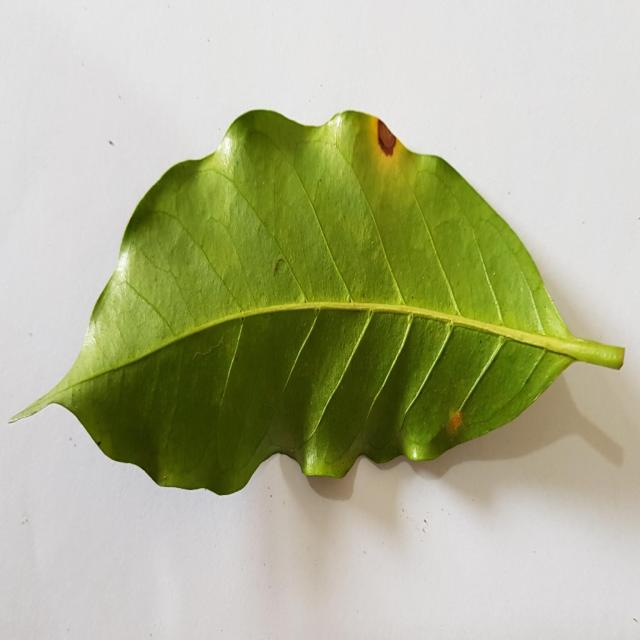Enfermedad-Mancha-de-hierro: (8, 109, 628, 499)
